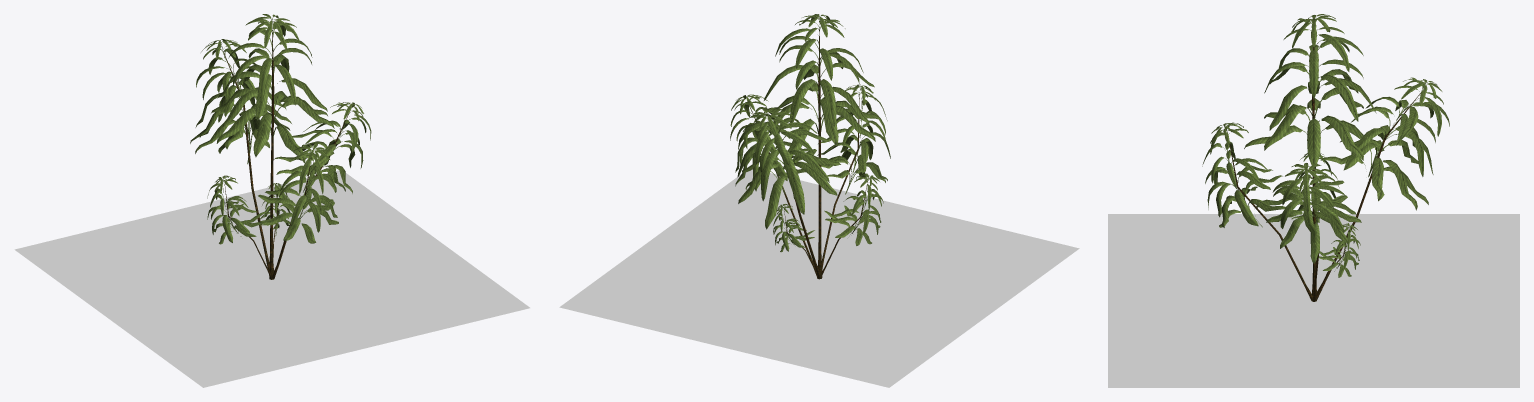
File: palm.dae
3 renders of one model, left to right at view 1: azimuth 30°, elevation 25°; view 2: azimuth 150°, elevation 25°; view 3: azimuth 270°, elevation 25°, orthographic. The views are drawn at different scales.
Parts seen in each view (by area): view 1: Plane, teatree_5000; view 2: Plane, teatree_5000; view 3: Plane, teatree_5000.
Part boxes in pixels (x1,y1,x2,y2): Plane: [14, 170, 529, 387]; teatree_5000: [190, 14, 371, 279]; Plane: [559, 169, 1079, 387]; teatree_5000: [730, 14, 890, 279]; Plane: [1108, 214, 1519, 387]; teatree_5000: [1202, 14, 1449, 301].
Bounding box in the file's own units: 30 × 30 × 24.34.
Materials: 1 (1 with a texture image).
